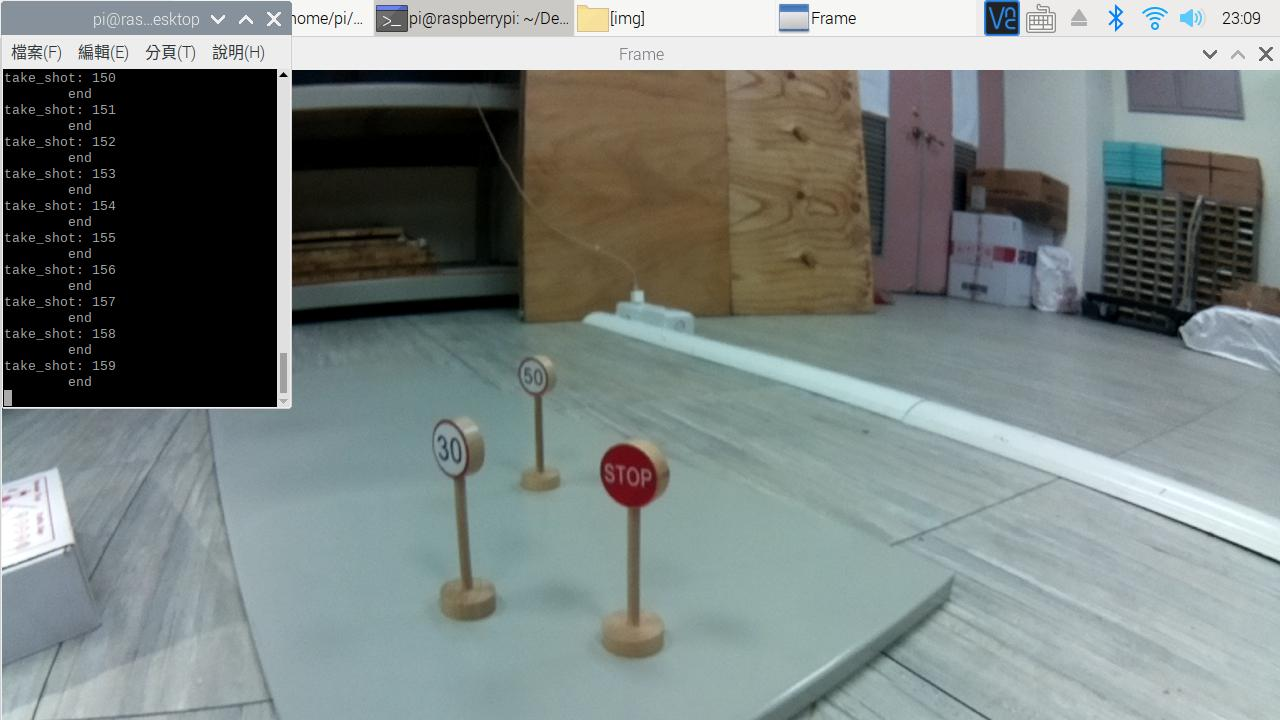Speed30: (426, 411, 489, 485)
Speed50: (508, 344, 565, 406)
Stop: (592, 430, 678, 513)
